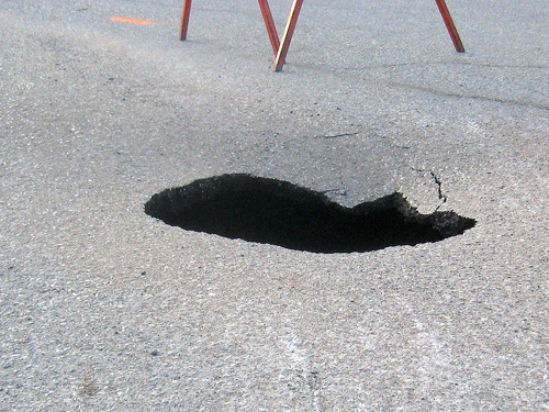pothole: (139, 170, 482, 258)
